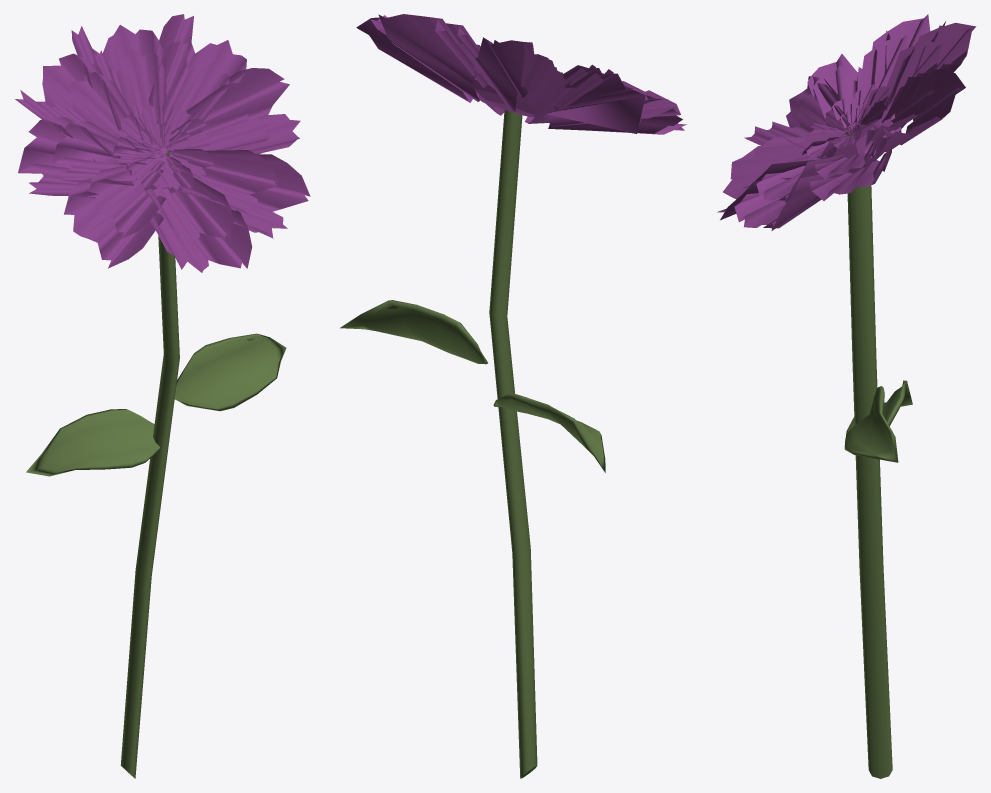
Rendered from carnationPink.fbx.
3 views of the same model, side by side, from view 1: azimuth 30°, elevation 25°; view 2: azimuth 150°, elevation 25°; view 3: azimuth 270°, elevation 25° (orthographic). The views are drawn at different scales.
Parts seen in each view (by area): view 1: polySurface315; view 2: polySurface315; view 3: polySurface315.
Part boxes in pixels (x1,y1,x2,y2): polySurface315: (15, 14, 310, 778); polySurface315: (340, 14, 686, 778); polySurface315: (717, 14, 976, 778).
Size of the model in its own units: 1.22 by 2.93 by 0.9236.
